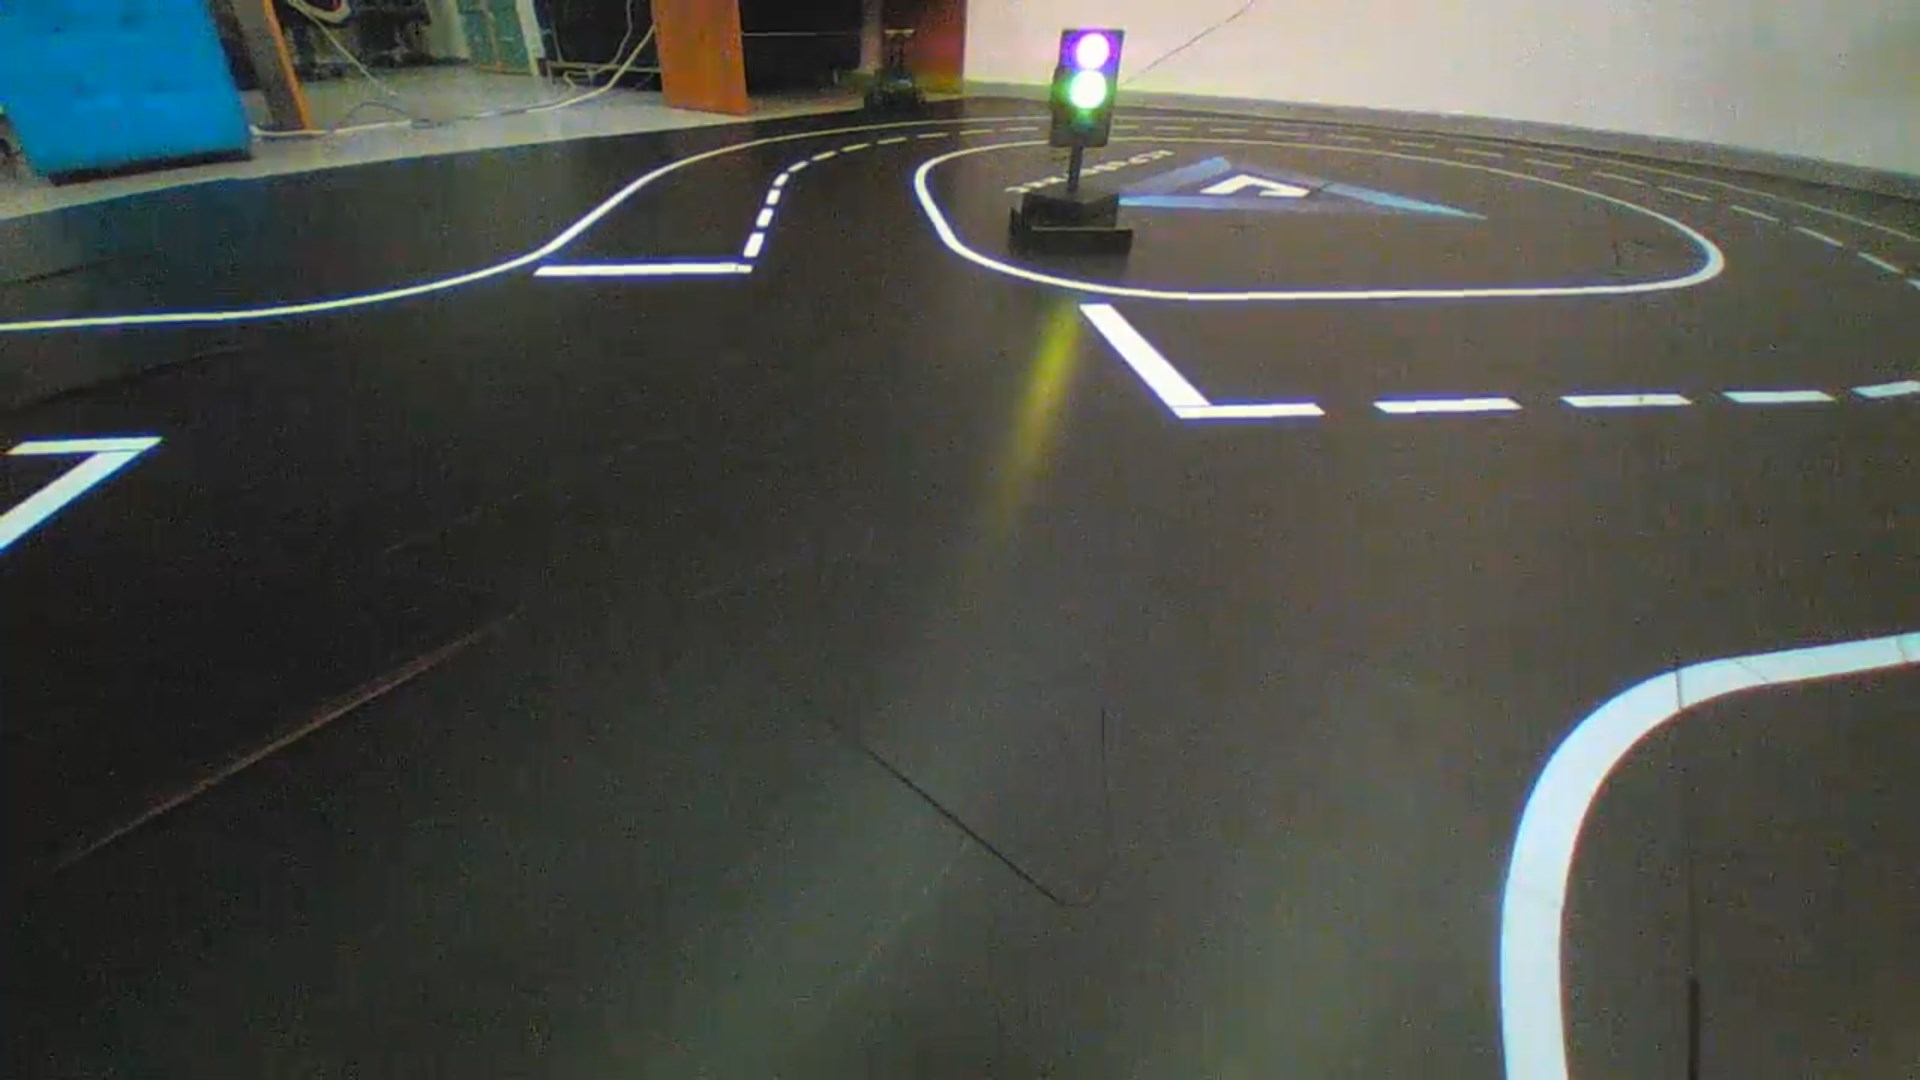trafficlight: (1048, 29, 1125, 148)
